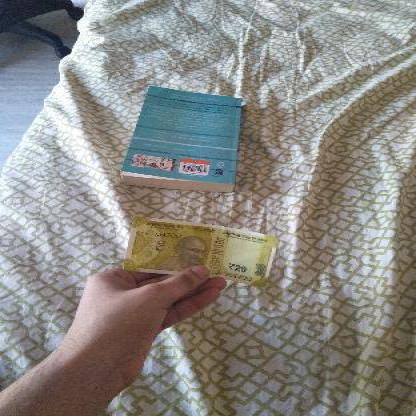New20Front: (133, 214, 275, 283)
